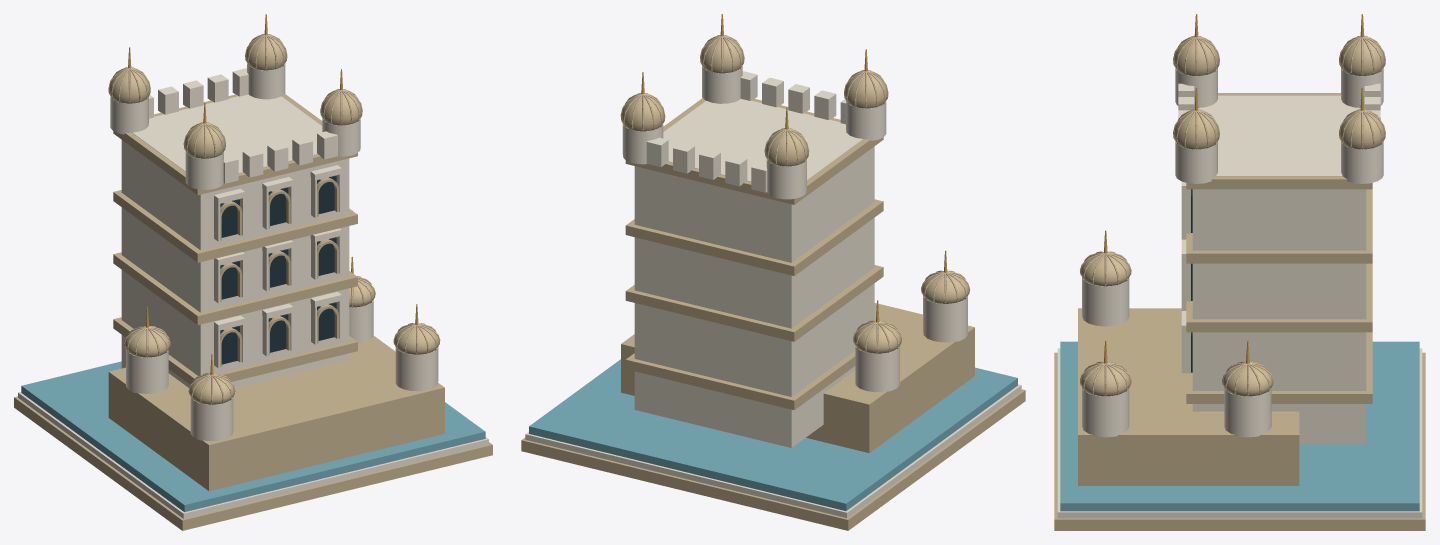
File: belem.glb
The picture shows the model from 3 angles, left to right: view 1: azimuth 30°, elevation 25°; view 2: azimuth 150°, elevation 25°; view 3: azimuth 270°, elevation 25°; orthographic projection. The views are drawn at different scales.
Visible parts, largest first — view 1: belem_ivory, belem_stone, belem_glass, belem_ink; view 2: belem_ivory, belem_stone, belem_glass; view 3: belem_ivory, belem_stone, belem_glass, belem_gold.
Boxes of the visible parts, left/top/right/bottom form: belem_ivory: left=18, top=63, right=488, bottom=518; belem_stone: left=14, top=34, right=492, bottom=530; belem_glass: left=21, top=361, right=485, bottom=512; belem_ink: left=220, top=175, right=336, bottom=364; belem_ivory: left=525, top=65, right=1021, bottom=517; belem_stone: left=521, top=35, right=1025, bottom=530; belem_glass: left=529, top=359, right=1017, bottom=510; belem_ivory: left=1057, top=67, right=1422, bottom=518; belem_stone: left=1054, top=36, right=1425, bottom=530; belem_glass: left=1060, top=341, right=1419, bottom=511; belem_gold: left=1104, top=14, right=1364, bottom=363.
Size of the model in its own units: 5 by 5.54 by 4.7.
